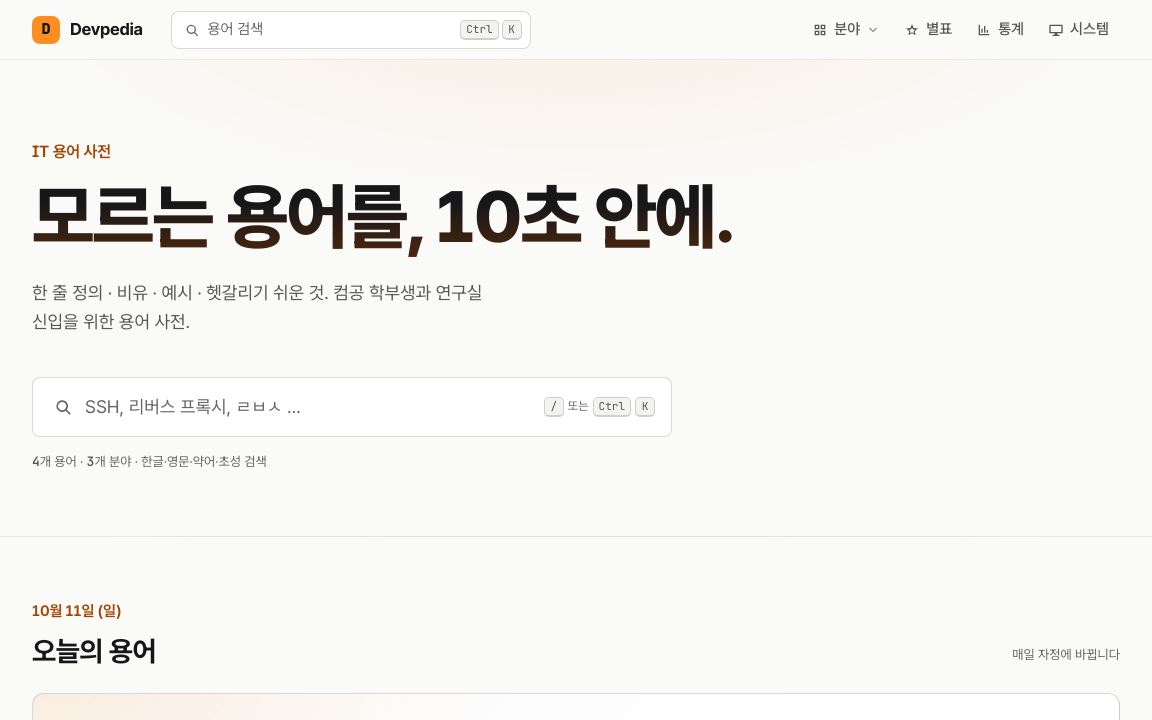
Scenario: HomePage › opens the search palette from the hero search box
Expected: the heading "모르는 용어를, 10초 안에." is shown, [32,179,734,259]
Click the button with class "hero__search" at x=193, y=406, box [32,377,672,437]
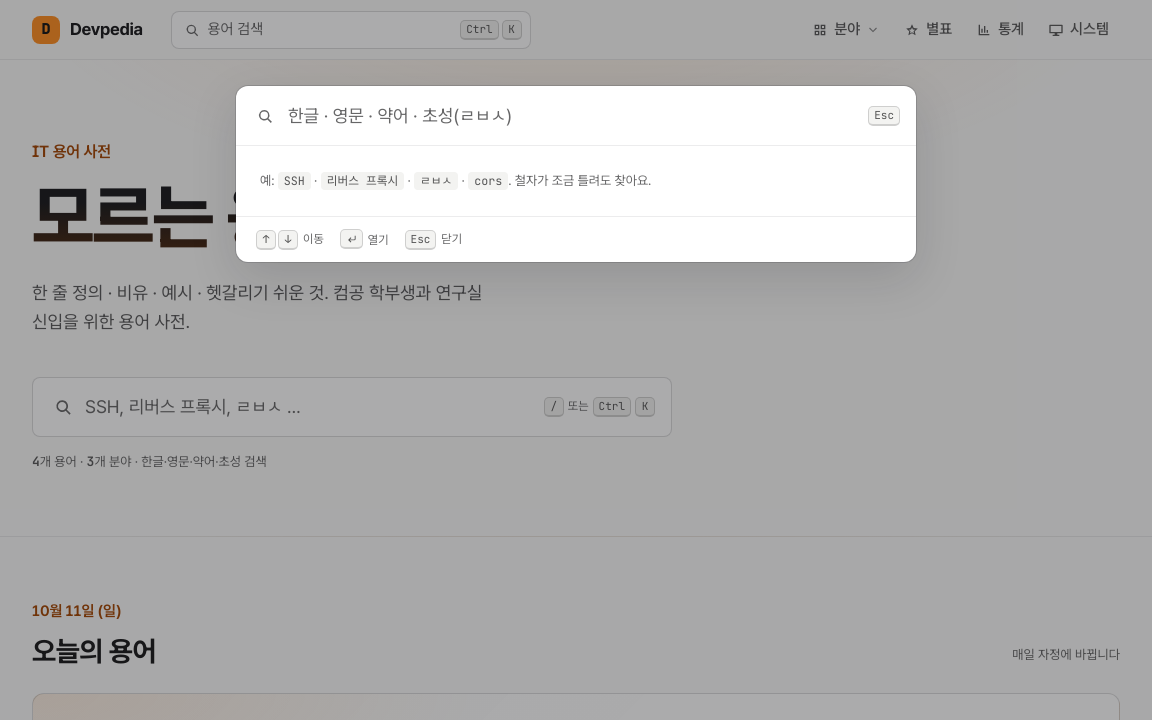
Expected: the dialog named "용어 검색" is shown, [236,86,916,262]
